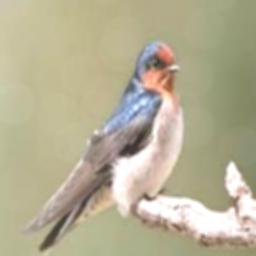Swallow: (19, 41, 184, 256)
